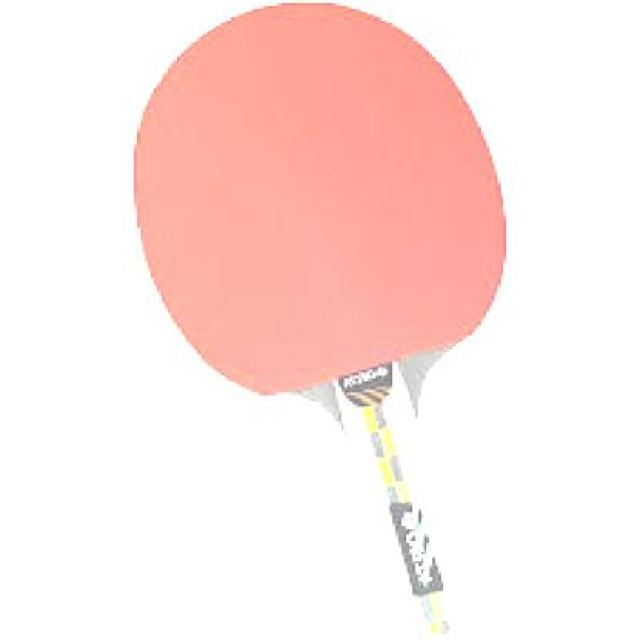table_tennis_racket: (129, 0, 511, 408)
